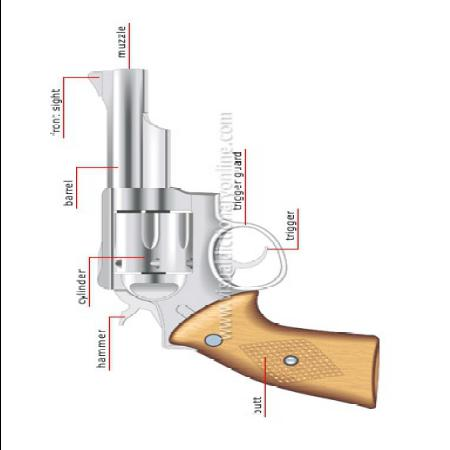Pistol: (84, 69, 378, 410)
